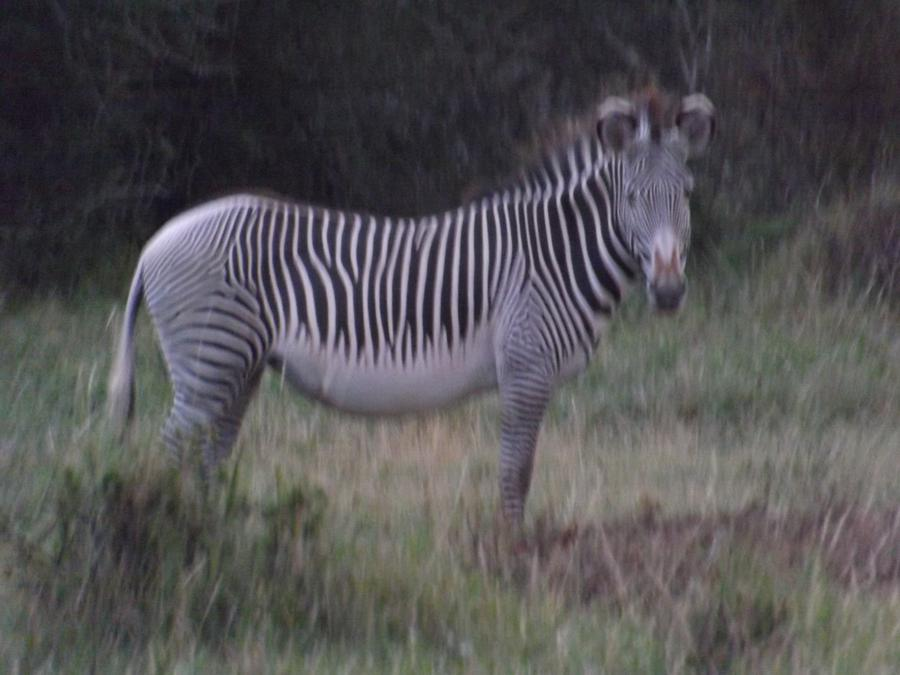zebra_grevys: (152, 194, 556, 395)
